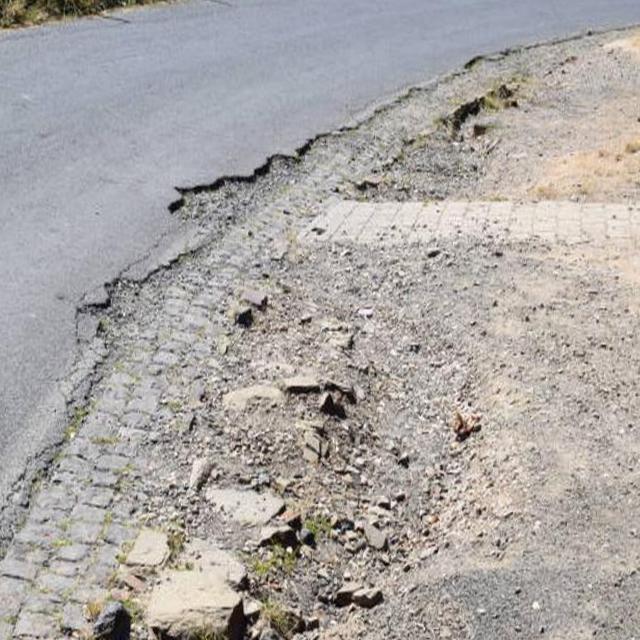Pinggir: (0, 23, 601, 640)
